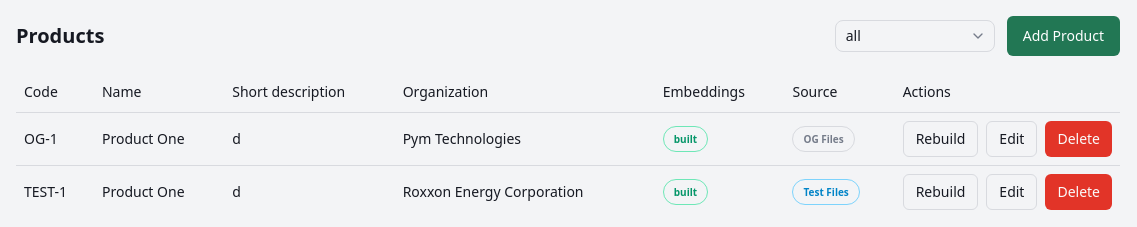
Test: ProductsPage source filter › filters to only Test Files products when selected
Check: the text "OG-1" is shown, box 16,112 -> 94,165
Click the dropdown named "source": (915, 36) 835,20 -> 995,52
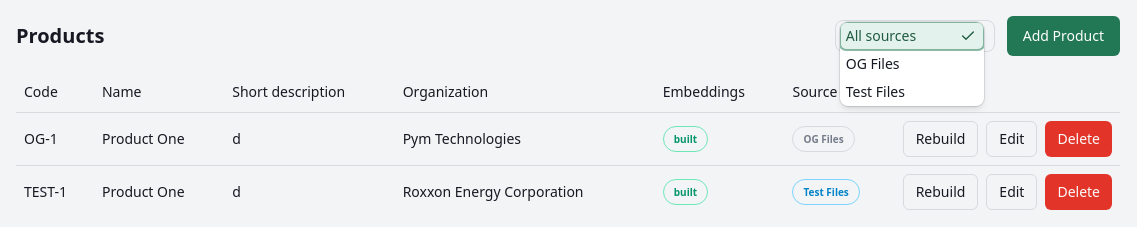
Click the option "Test Files": (875, 92) 846,82 -> 905,101
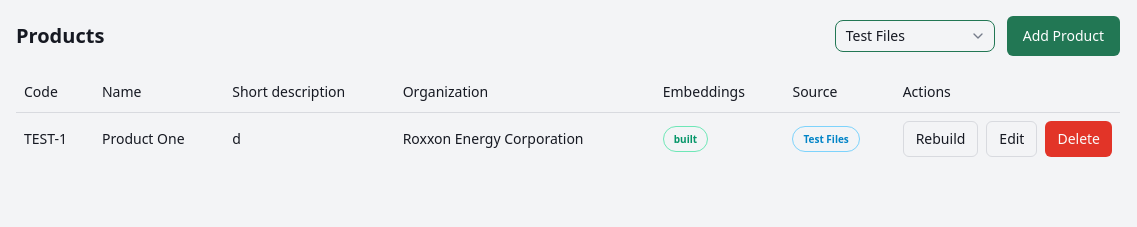
Check: the text "TEST-1" is shown, box 16,112 -> 94,164
Check: the text "OG-1" is gone
